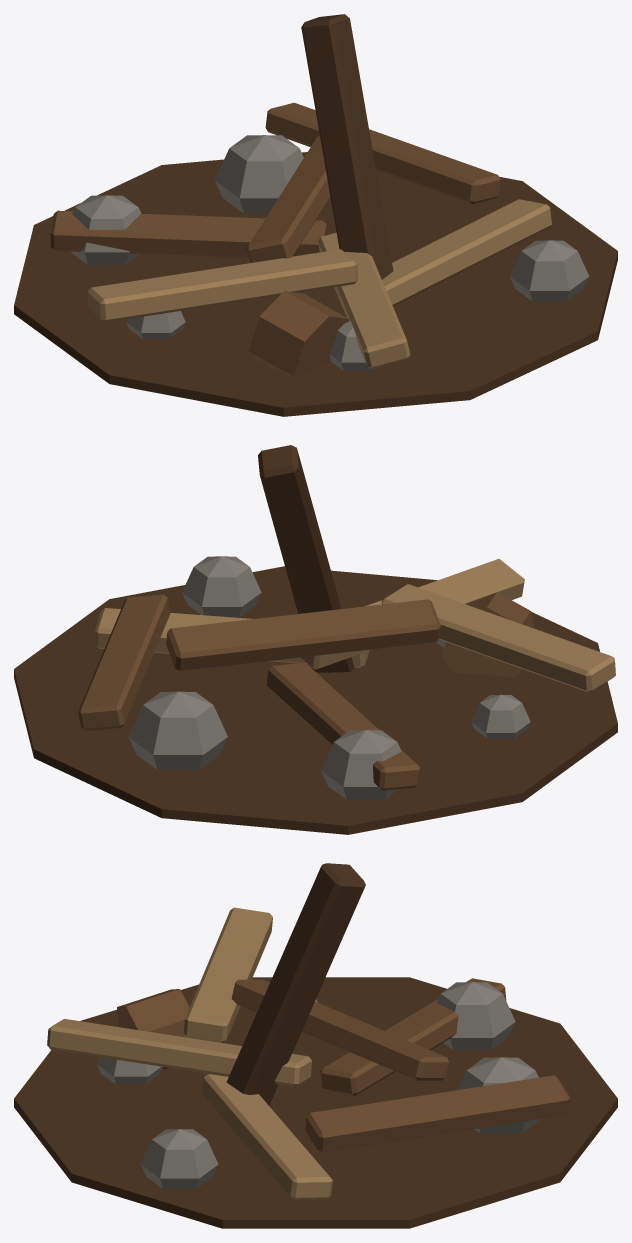
The model's file is rubble.fbx.
3 views of the same model, one above another, from view 1: azimuth 30°, elevation 25°; view 2: azimuth 150°, elevation 25°; view 3: azimuth 270°, elevation 25° (orthographic). The views are drawn at different scales.
Parts seen in each view (by area): view 1: Prop; view 2: Prop; view 3: Prop.
Boxes of the visible parts, left/top/right/bottom form: Prop: left=14, top=14, right=617, bottom=416; Prop: left=14, top=445, right=617, bottom=834; Prop: left=14, top=863, right=617, bottom=1228.
Size of the model in its own units: 1.19 by 1.24 by 0.6144.
